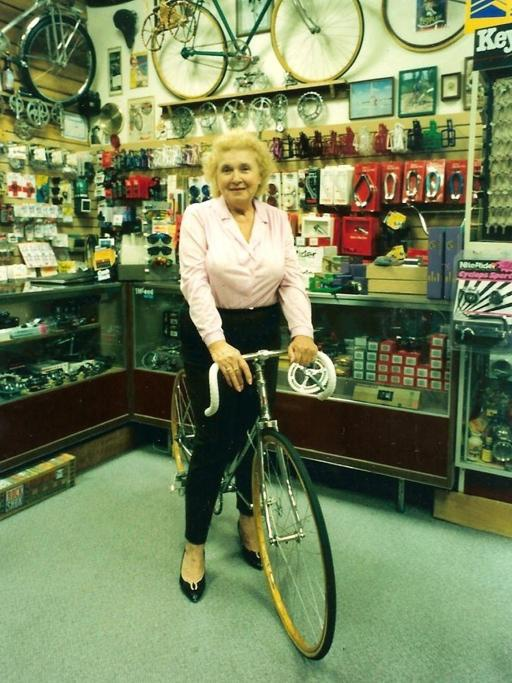non-vehicle: (169, 345, 336, 661), (150, 0, 365, 100), (0, 0, 97, 106)
